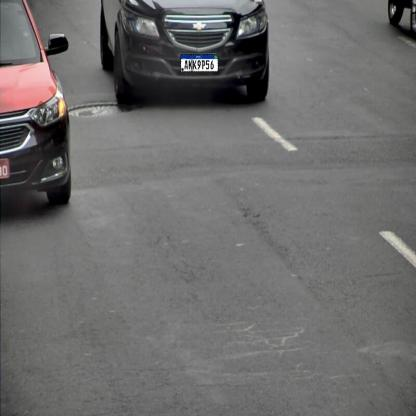PlacaM: (180, 54, 218, 72)
